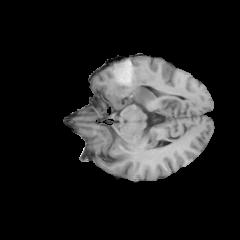glioma: (100, 58, 154, 107)
